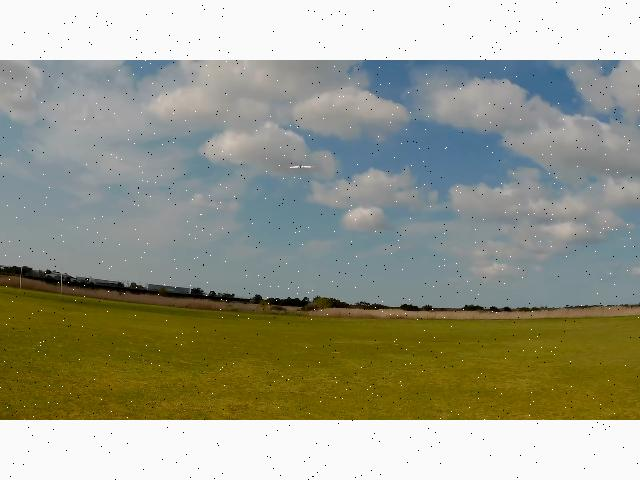Anti-Drone: (287, 165, 315, 169)
